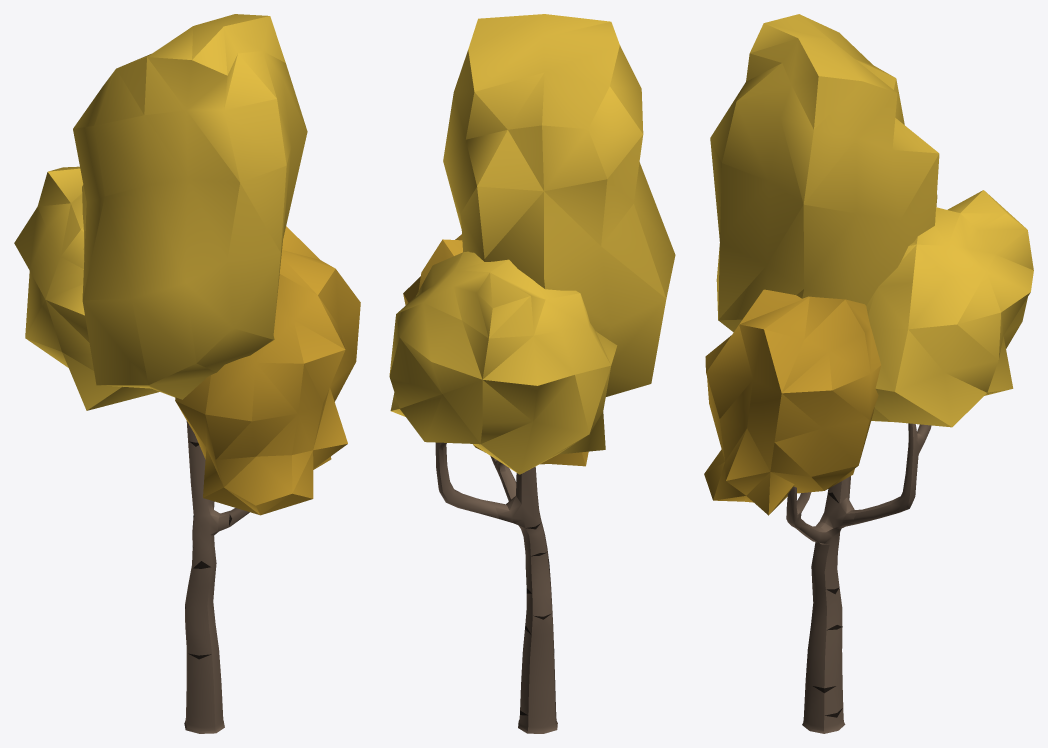
Rendered from tree_ginkgo_1.glb.
3 renders of one model, left to right at view 1: azimuth 30°, elevation 25°; view 2: azimuth 150°, elevation 25°; view 3: azimuth 270°, elevation 25°, orthographic. The views are drawn at different scales.
Parts seen in each view (by area): view 1: tree_ginkgo_1; view 2: tree_ginkgo_1; view 3: tree_ginkgo_1.
Boxes of the visible parts, x1,y1,x2,y2 form: tree_ginkgo_1: (14, 14, 360, 733); tree_ginkgo_1: (389, 14, 675, 733); tree_ginkgo_1: (704, 14, 1033, 733).
Size of the model in its own units: 4.23 by 11 by 4.76.
